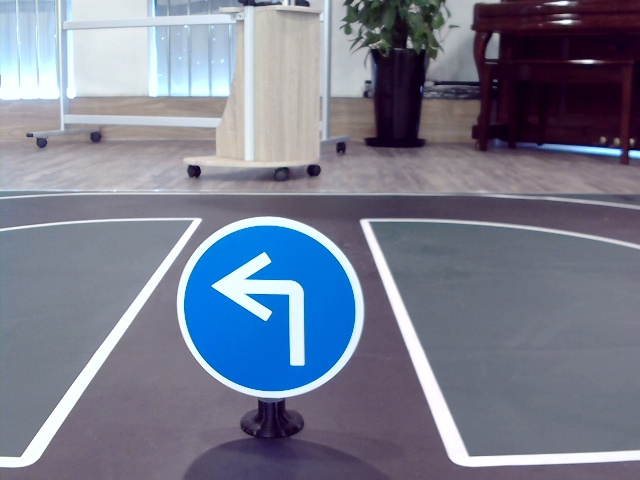turn_left: (211, 248, 318, 370)
